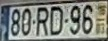0: (20, 7, 32, 36)
6: (81, 3, 93, 34)
8: (9, 8, 21, 36)
9: (68, 4, 81, 35)
D: (49, 5, 63, 36)
R: (34, 6, 49, 37)
